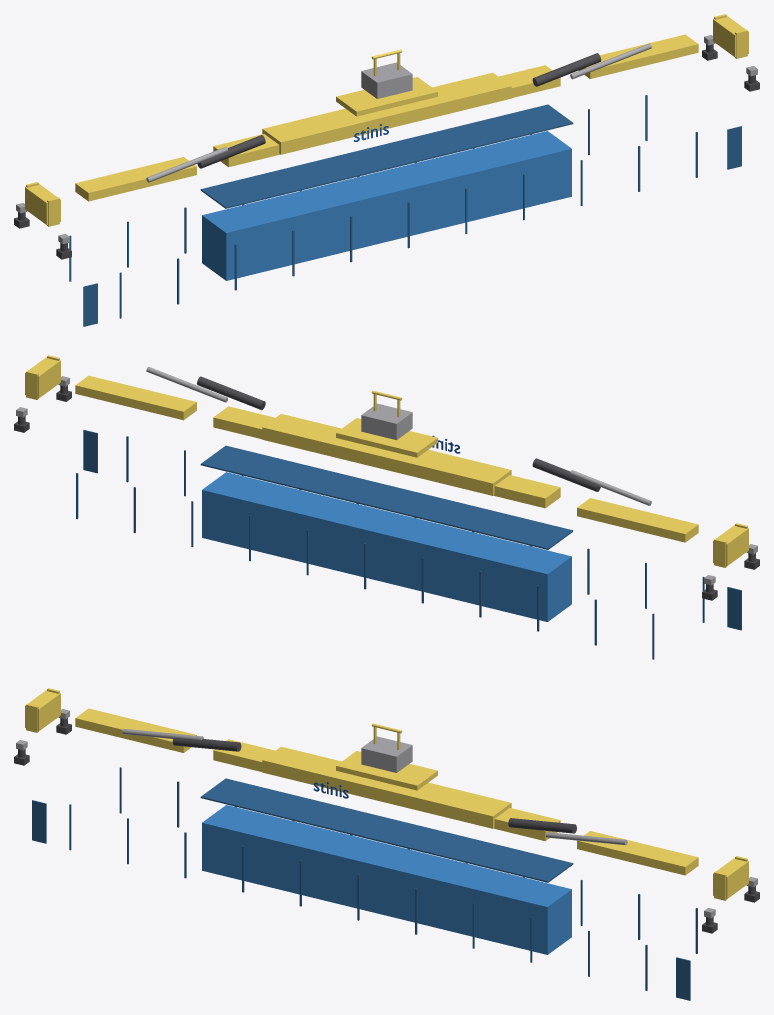
Rendered from spreader_container.glb.
3 renders of one model, top to bottom at view 1: azimuth 30°, elevation 25°; view 2: azimuth 150°, elevation 25°; view 3: azimuth 330°, elevation 25°, orthographic.
Visible parts, largest first — view 1: container_40ft_body, container_roof_highlight, main_central_beam, left_sliding_inner_arm, right_sliding_inner_arm, top_equipment_platform, center_control_box, right_fixed_outer_arm, left_fixed_outer_arm, right_end_head, left_end_head, right_hydraulic_body (+4 smaller); view 2: container_40ft_body, container_roof_highlight, main_central_beam, left_sliding_inner_arm, right_sliding_inner_arm, top_equipment_platform, left_fixed_outer_arm, center_control_box, right_fixed_outer_arm, right_end_head, left_end_head, right_hydraulic_body (+4 smaller); view 3: container_40ft_body, container_roof_highlight, main_central_beam, right_sliding_inner_arm, left_sliding_inner_arm, top_equipment_platform, center_control_box, left_fixed_outer_arm, right_fixed_outer_arm, left_end_head, right_end_head, right_hydraulic_body (+3 smaller).
Part boxes in pixels (left/top/right/bottom): container_40ft_body: left=202, top=131, right=571, bottom=280; container_roof_highlight: left=200, top=104, right=573, bottom=208; main_central_beam: left=262, top=72, right=511, bottom=154; left_sliding_inner_arm: left=75, top=157, right=196, bottom=201; right_sliding_inner_arm: left=578, top=34, right=698, bottom=78; top_equipment_platform: left=336, top=77, right=437, bottom=116; center_control_box: left=361, top=62, right=412, bottom=98; right_fixed_outer_arm: left=499, top=65, right=560, bottom=97; left_fixed_outer_arm: left=213, top=134, right=280, bottom=167; right_end_head: left=713, top=16, right=748, bottom=56; left_end_head: left=25, top=184, right=60, bottom=224; right_hydraulic_body: left=532, top=53, right=601, bottom=86; container_40ft_body: left=202, top=472, right=571, bottom=621; container_roof_highlight: left=200, top=445, right=573, bottom=549; main_central_beam: left=262, top=414, right=511, bottom=495; left_sliding_inner_arm: left=577, top=498, right=698, bottom=542; right_sliding_inner_arm: left=75, top=375, right=196, bottom=420; top_equipment_platform: left=336, top=418, right=437, bottom=457; left_fixed_outer_arm: left=493, top=475, right=560, bottom=508; center_control_box: left=361, top=403, right=412, bottom=440; right_fixed_outer_arm: left=213, top=406, right=274, bottom=439; right_end_head: left=25, top=357, right=60, bottom=398; left_end_head: left=713, top=525, right=748, bottom=565; right_hydraulic_body: left=197, top=376, right=265, bottom=410; container_40ft_body: left=202, top=805, right=571, bottom=954; container_roof_highlight: left=200, top=778, right=573, bottom=882; main_central_beam: left=262, top=746, right=511, bottom=828; right_sliding_inner_arm: left=577, top=831, right=698, bottom=875; left_sliding_inner_arm: left=75, top=708, right=196, bottom=752; top_equipment_platform: left=336, top=751, right=437, bottom=790; center_control_box: left=361, top=736, right=412, bottom=772; left_fixed_outer_arm: left=213, top=739, right=274, bottom=771; right_fixed_outer_arm: left=493, top=808, right=560, bottom=841; left_end_head: left=25, top=690, right=60, bottom=730; right_end_head: left=713, top=858, right=748, bottom=898; right_hydraulic_body: left=508, top=818, right=576, bottom=833.
Bounding box in the file's own units: 20.72 × 4.99 × 2.63.
